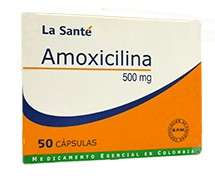LaSante: (23, 13, 200, 163)
